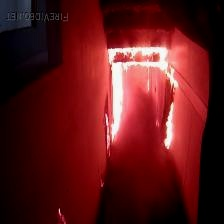fire: (94, 43, 182, 154)
